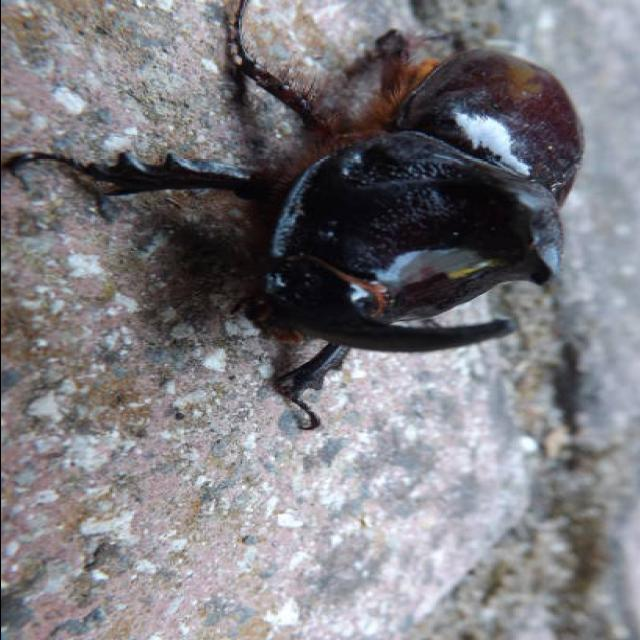Rhino-beetle: (144, 12, 588, 414)
